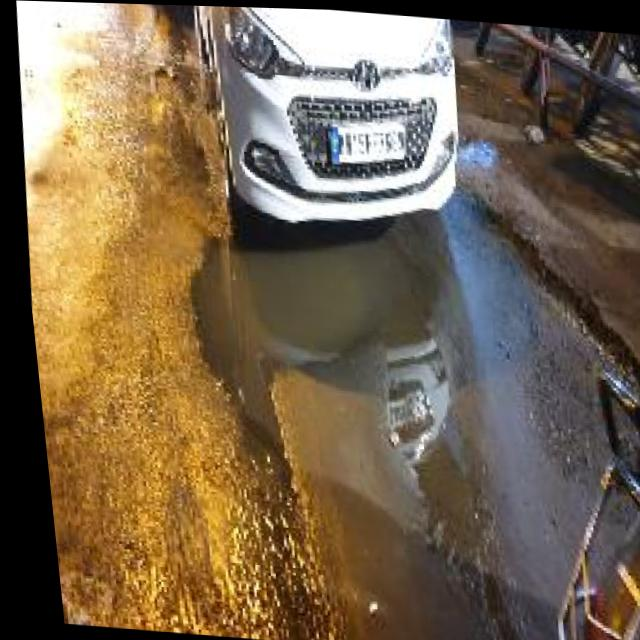puddle: (161, 206, 549, 640)
